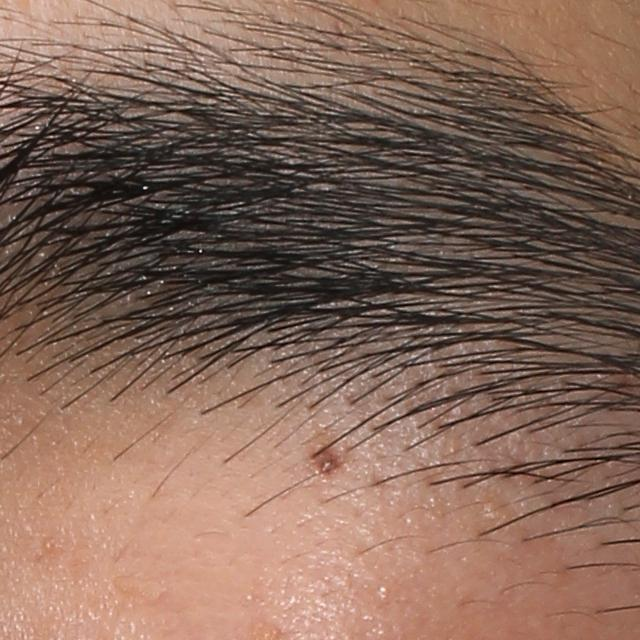nevus: (313, 438, 351, 478)
